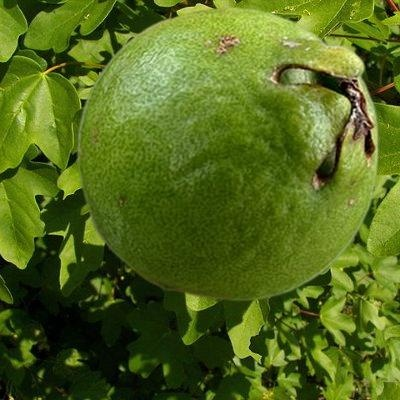guava: (76, 6, 378, 301)
